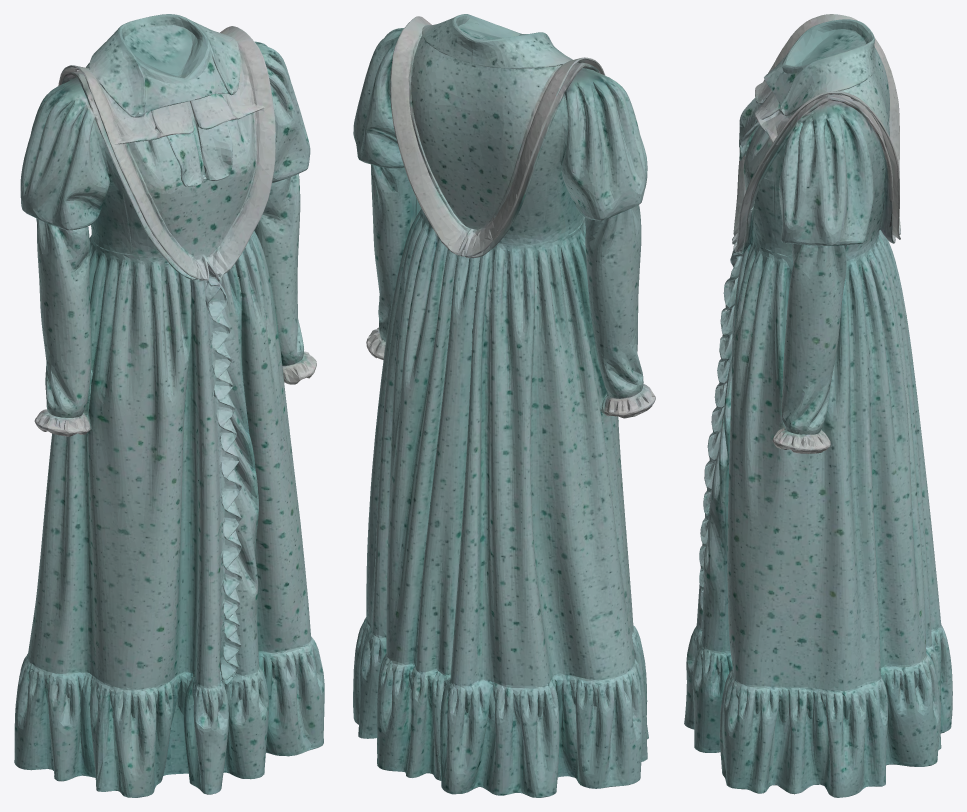
File: robe de chambre exorciste.glb
The picture shows the model from 3 angles, left to right: view 1: azimuth 30°, elevation 25°; view 2: azimuth 150°, elevation 25°; view 3: azimuth 270°, elevation 25°; orthographic projection. The views are drawn at different scales.
Visible parts, largest first — view 1: node_0; view 2: node_0; view 3: node_0.
Part boxes in pixels (x1,y1,x2,y2): node_0: [14, 14, 324, 797]; node_0: [353, 14, 655, 797]; node_0: [684, 14, 952, 797].
Size of the model in its own units: 0.461 by 1.11 by 0.3869.
1 material, 1 textured.
